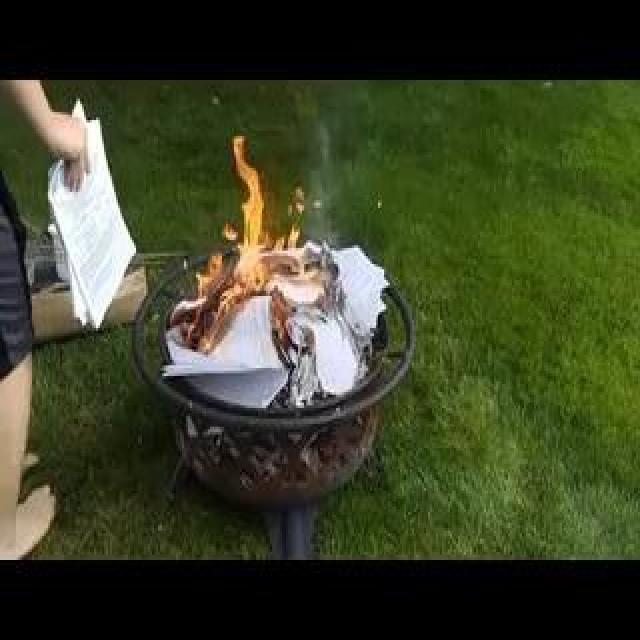Fire: (156, 194, 240, 256)
